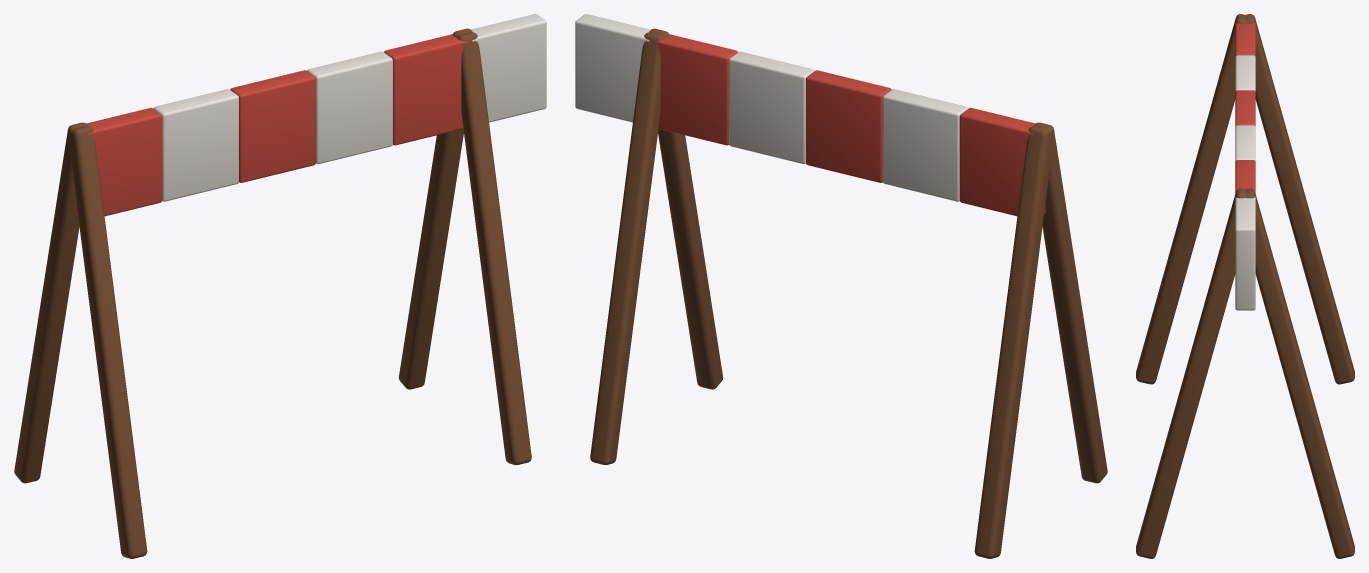
Rendered from cavalete.glb.
3 views of the same model, side by side, from view 1: azimuth 30°, elevation 25°; view 2: azimuth 150°, elevation 25°; view 3: azimuth 270°, elevation 25° (orthographic). The views are drawn at different scales.
Visible parts, largest first — view 1: Cube, Cube.002, Cube.001, Cube.005, Cube.007, Cube.006, Cube.003, Cube.008, Cube.004, Cube.009; view 2: Cube.001, Cube.003, Cube, Cube.005, Cube.007, Cube.006, Cube.002, Cube.008, Cube.004, Cube.009; view 3: Cube, Cube.001, Cube.002, Cube.003, Cube.009, Cube.005, Cube.006, Cube.007, Cube.004, Cube.008.
Boxes of the visible parts, x1,y1,x2,y2 form: Cube: (68, 126, 147, 558); Cube.002: (456, 32, 531, 465); Cube.001: (14, 122, 87, 483); Cube.005: (153, 89, 238, 201); Cube.007: (307, 51, 392, 164); Cube.006: (230, 70, 315, 182); Cube.003: (398, 28, 472, 389); Cube.008: (384, 34, 468, 145); Cube.004: (76, 107, 162, 216); Cube.009: (471, 14, 546, 122); Cube.001: (974, 126, 1051, 558); Cube.003: (590, 32, 665, 465); Cube: (1034, 122, 1107, 483); Cube.005: (883, 89, 968, 201); Cube.007: (729, 51, 814, 164); Cube.006: (806, 70, 891, 182); Cube.002: (649, 28, 723, 389); Cube.008: (653, 34, 737, 145); Cube.004: (959, 107, 1045, 216); Cube.009: (575, 14, 650, 122); Cube: (1136, 14, 1245, 384); Cube.001: (1245, 14, 1354, 384); Cube.002: (1136, 188, 1245, 558); Cube.003: (1245, 188, 1354, 558); Cube.009: (1235, 196, 1255, 310); Cube.005: (1235, 55, 1255, 91); Cube.006: (1235, 90, 1255, 126); Cube.007: (1235, 125, 1255, 160); Cube.004: (1235, 22, 1255, 56); Cube.008: (1235, 160, 1255, 194).
Bounding box in the file's own units: 1.23 × 0.9758 × 0.5304.
